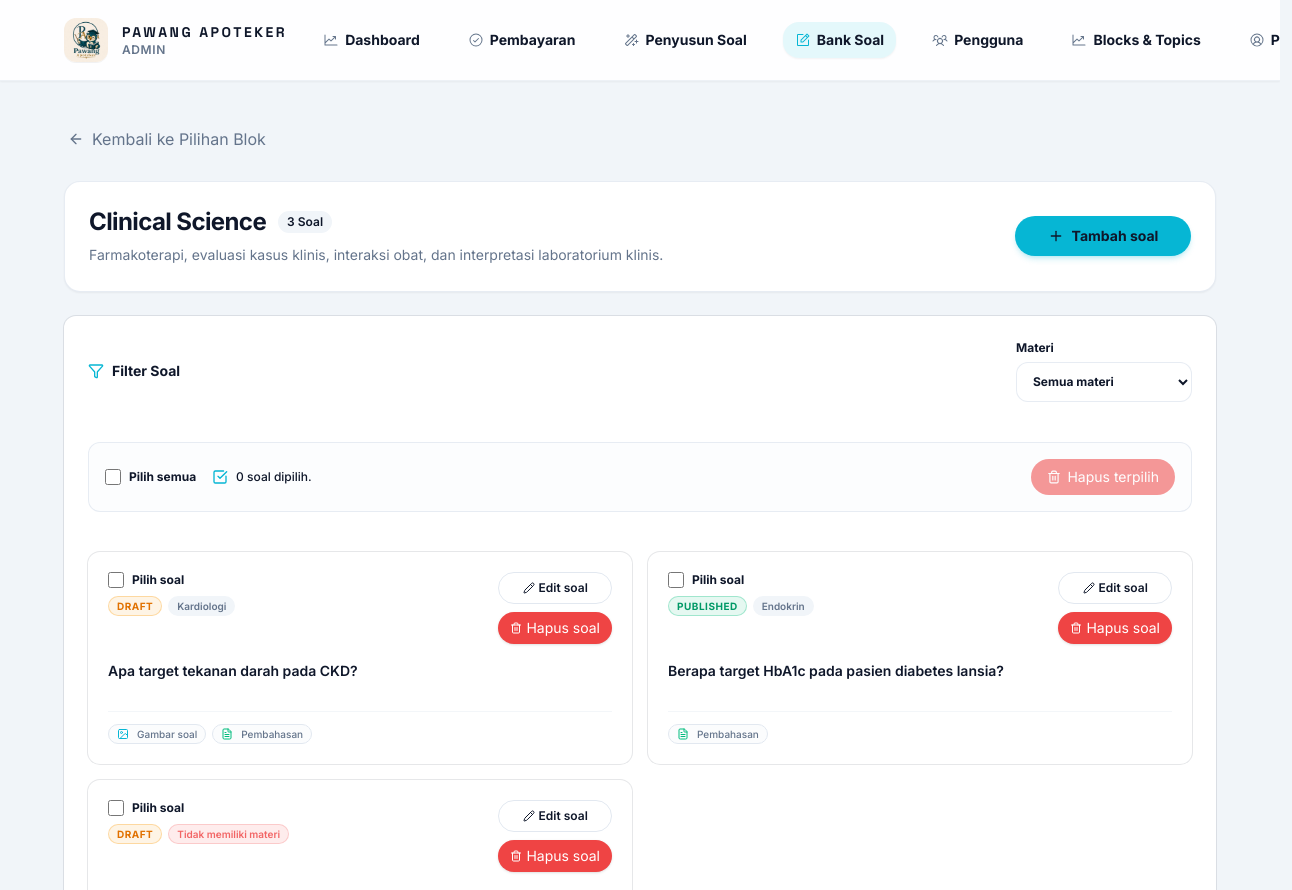
Test: QuestionsPage - Block selection and list integration › clears selections that are hidden after changing topic filter
Expected: the heading "Apa target tekanan darah pada CKD?" is shown, [108,662,358,679]
# Select question-1 (Kardiologi)
Step 1. Click the checkbox named "pilih soal apa target tekanan darah pada ckd" → (116, 580), box [108,572,124,588]
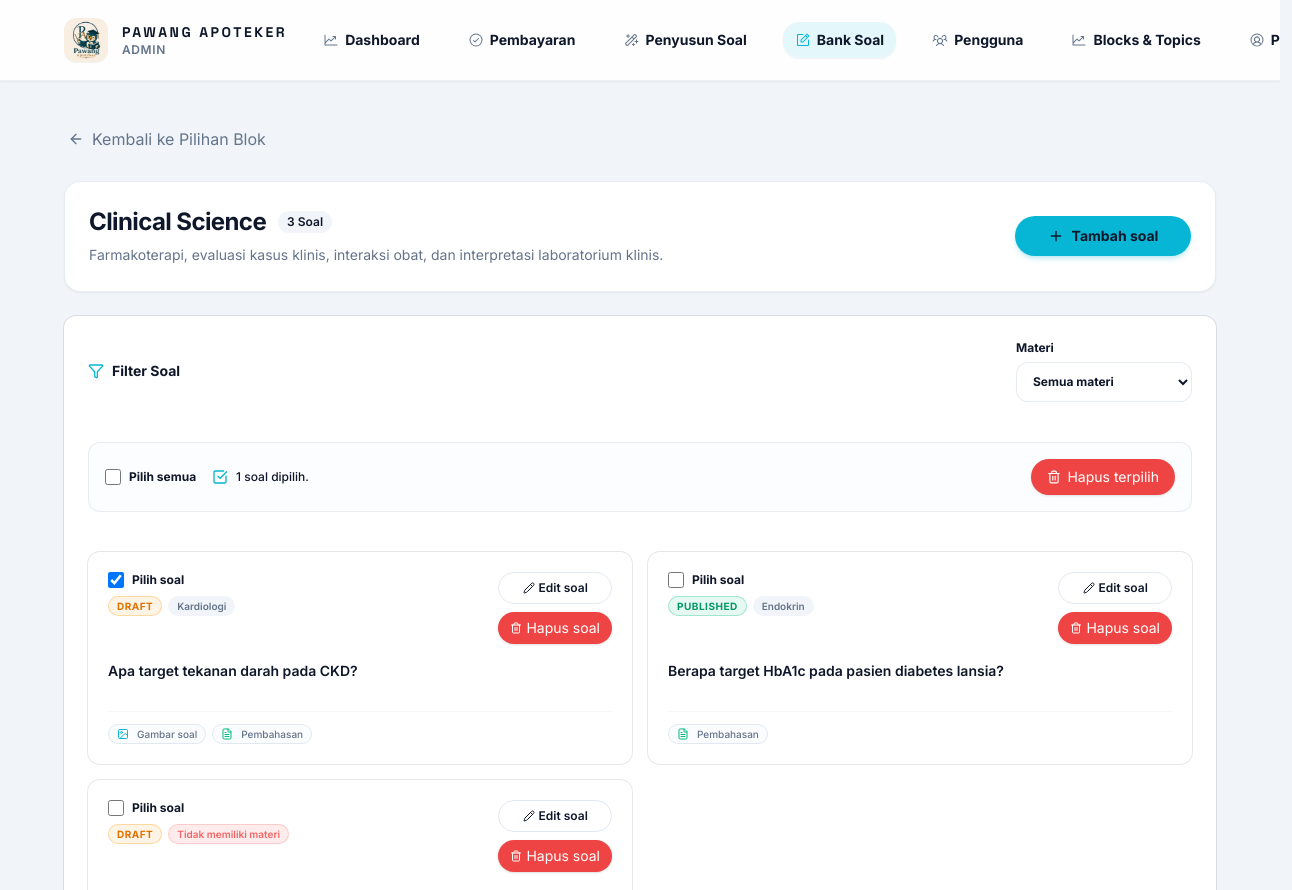
Result: the text "1 soal dipilih." is shown at [212,469,309,485]
# Change topic filter to "Endokrin"
Step 2. Select "Endokrin" in the dropdown labelled "Materi" → (1104, 382), box [1016,362,1192,402]
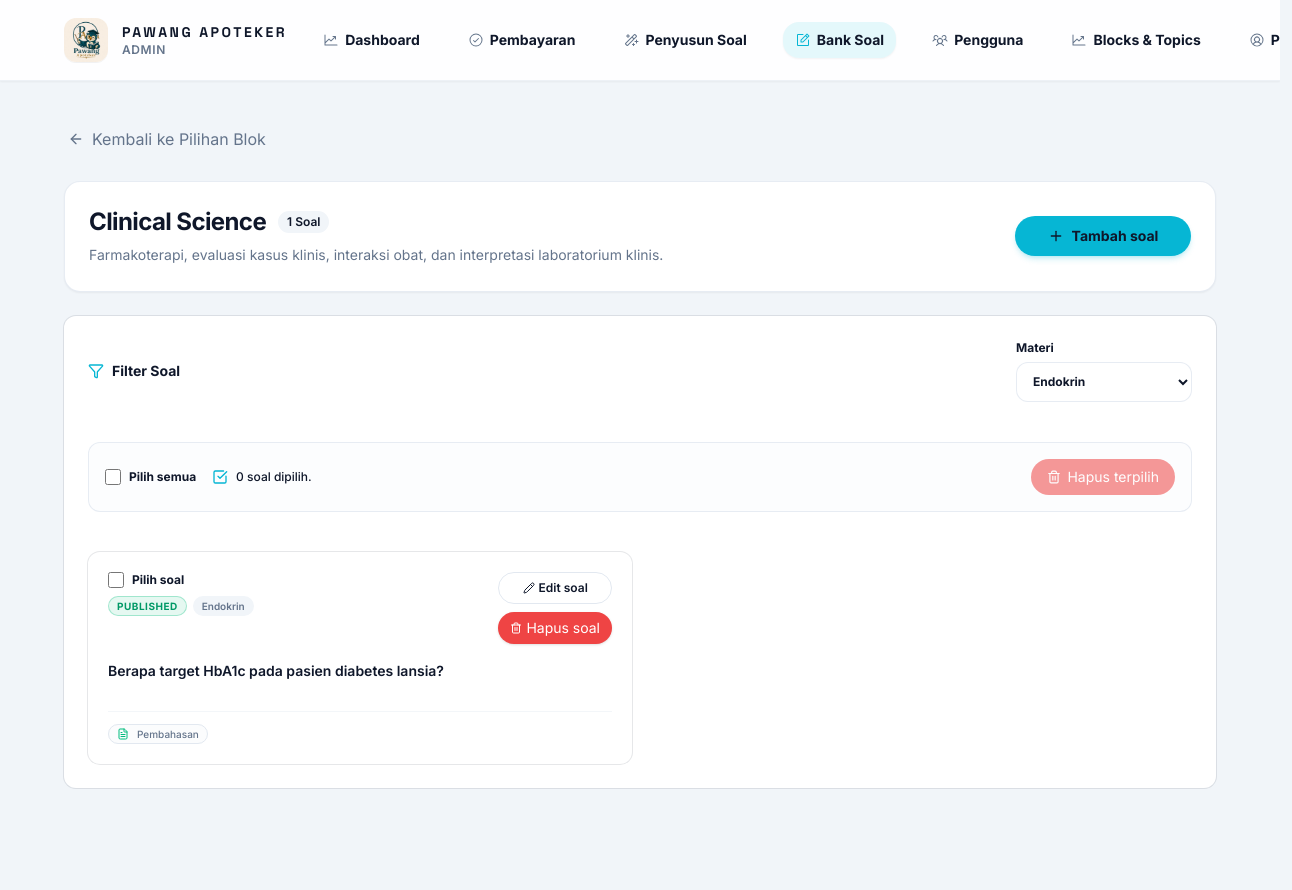
Result: the heading "Apa target tekanan darah pada CKD" is gone
Result: the text "0 soal dipilih." is shown at [212,469,312,485]
Result: the button "Hapus terpilih" is disabled at [1031,459,1175,495]
